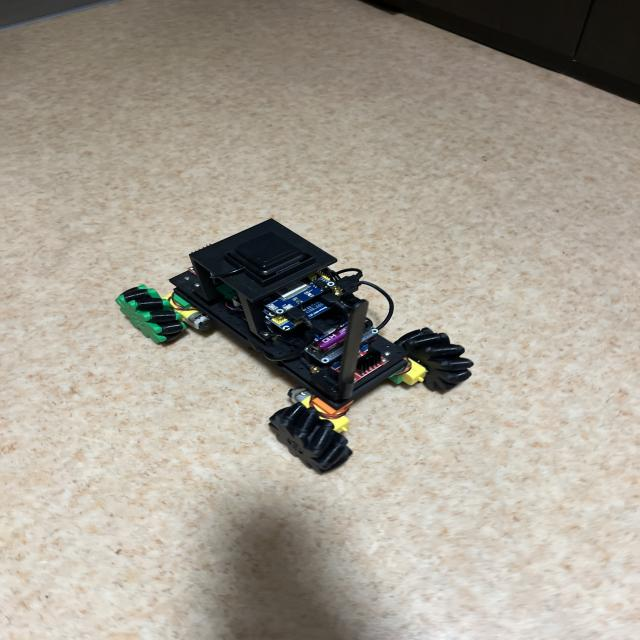robot: (116, 219, 473, 472)
